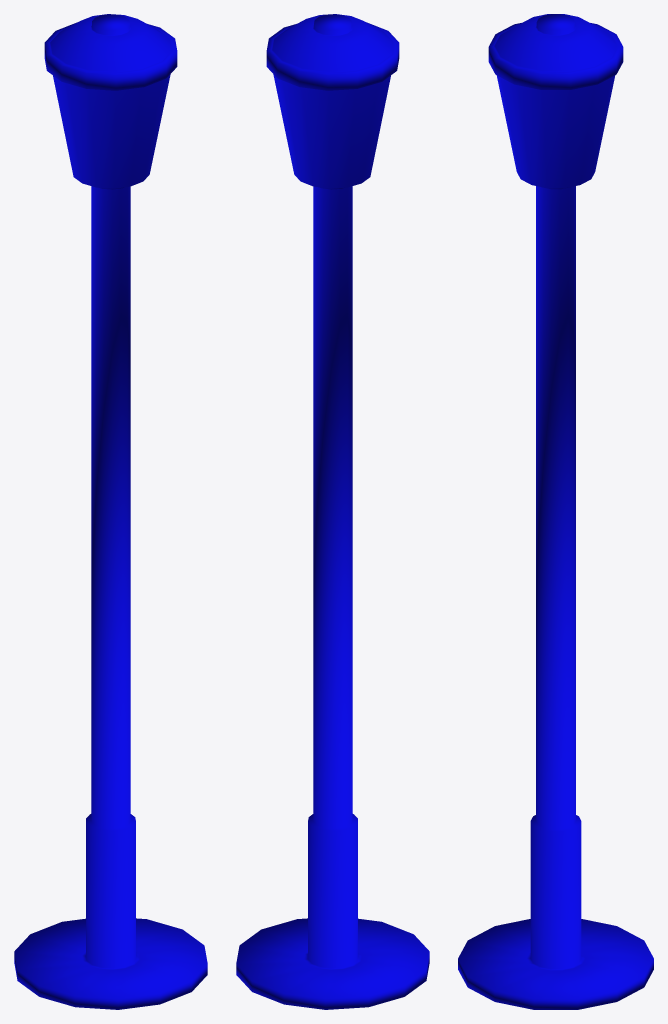
The model's file is farola.fbx.
The picture shows the model from 3 angles, left to right: view 1: azimuth 30°, elevation 25°; view 2: azimuth 150°, elevation 25°; view 3: azimuth 270°, elevation 25°; orthographic projection.
Parts seen in each view (by area): view 1: Cylinder.001; view 2: Cylinder.001; view 3: Cylinder.001.
Part boxes in pixels (bbox=[...]): Cylinder.001: bbox=[14, 14, 207, 1009]; Cylinder.001: bbox=[236, 14, 429, 1009]; Cylinder.001: bbox=[458, 14, 653, 1009].
Bounding box in the file's own units: 274 × 1501 × 281.
